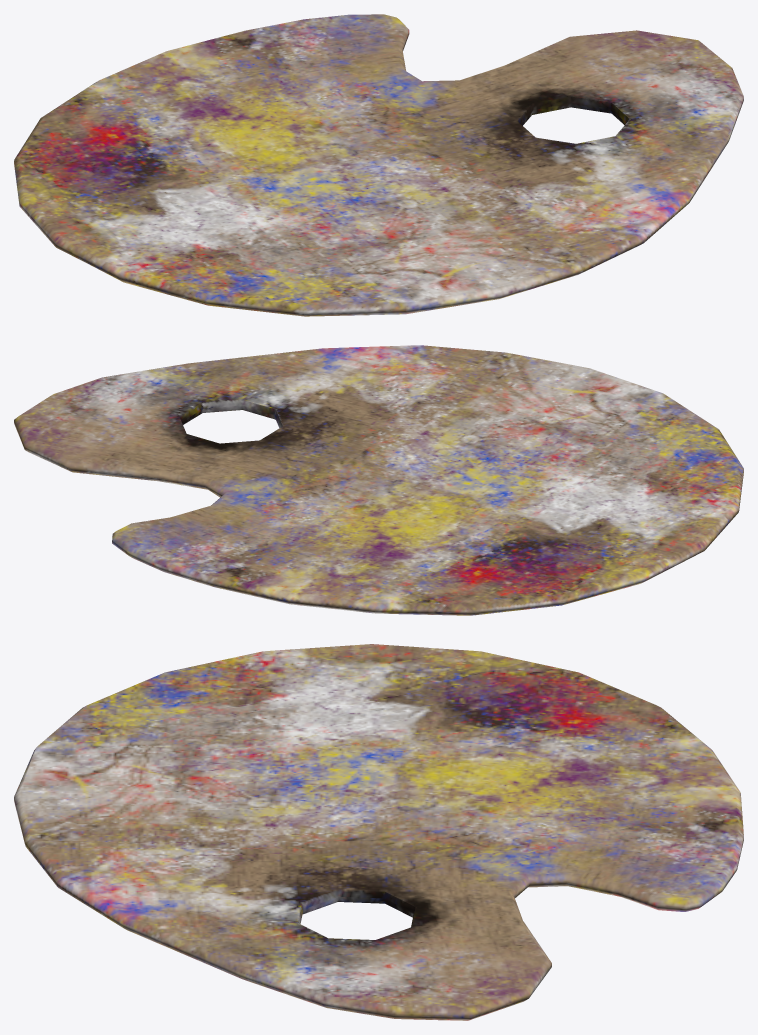
File: palette.fbx
The picture shows the model from 3 angles, top to bottom: view 1: azimuth 30°, elevation 25°; view 2: azimuth 150°, elevation 25°; view 3: azimuth 270°, elevation 25°; orthographic projection. The views are drawn at different scales.
Visible parts, largest first — view 1: pCylinder3; view 2: pCylinder3; view 3: pCylinder3.
Boxes of the visible parts, <box> form: pCylinder3: <box>14,14,743,316</box>; pCylinder3: <box>14,345,743,615</box>; pCylinder3: <box>14,644,743,1020</box>.
Bounding box in the file's own units: 62.57 × 0.9999 × 52.27.
Materials: 1 (1 with a texture image).
